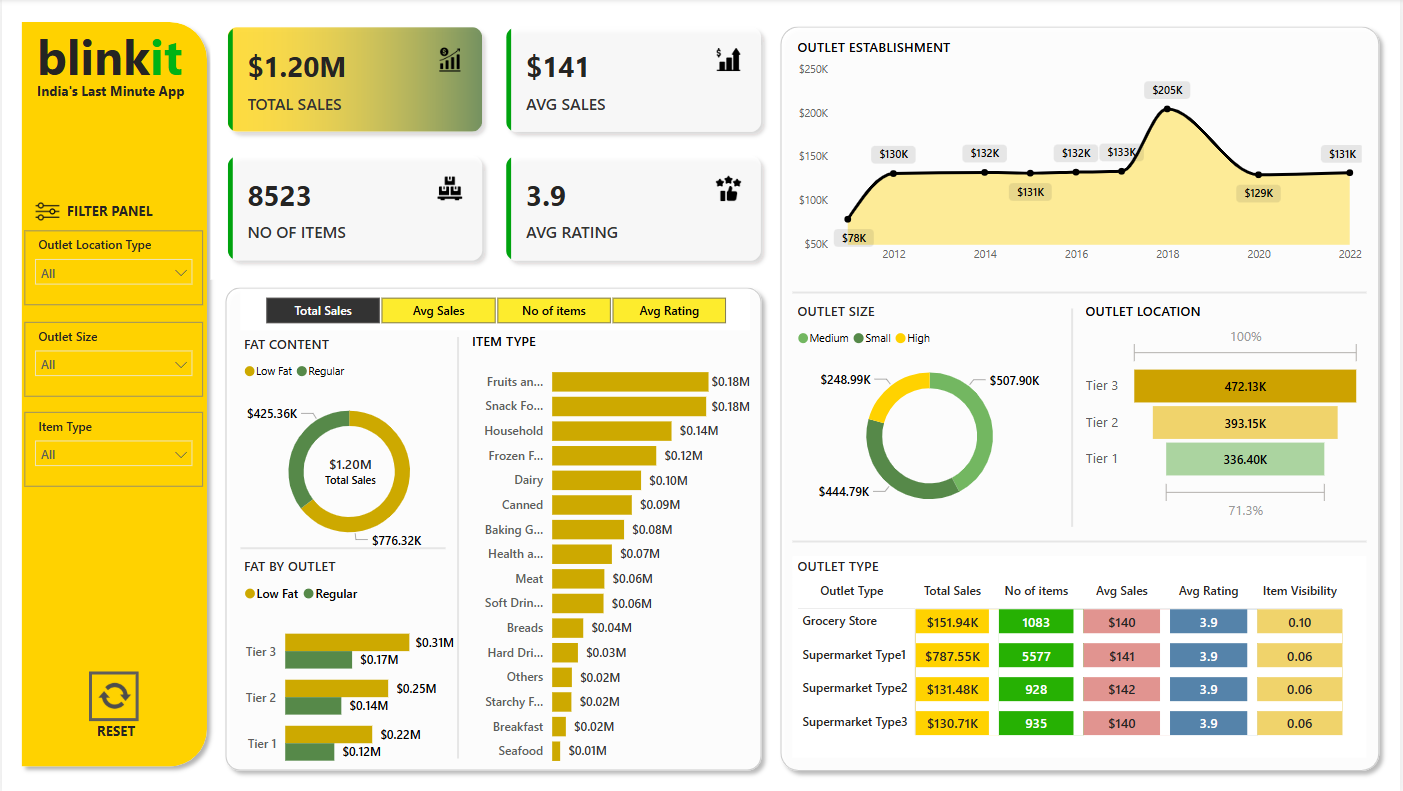

This screenshot's page, from the dashboard's own definition file:
{"tool":"powerbi","page":{"name":"Page 1","canvas":[1400,800],"ordinal":0},"visuals":[{"type":"shape","box":[9.9,14.9,203.7,763.5],"z":0},{"type":"textbox","box":[29.8,19.9,164,79.5],"z":1000},{"type":"textbox","box":[29.8,77.8,173.9,41.4],"z":2000},{"type":"cardVisual","fields":{"Data":["BlinkIT Grocery Data.Total Sales","BlinkIT Grocery Data.Avg Sales","BlinkIT Grocery Data.No of items","BlinkIT Grocery Data.Avg Rating"]},"box":[208.7,11.6,569.7,270],"z":3000},{"type":"shape","box":[215.3,281.5,554.8,501.8],"z":4000},{"type":"donutChart","title":"FAT CONTENT","fields":{"Y":["BlinkIT Grocery Data.Total Sales"],"Category":["BlinkIT Grocery Data.Item Fat Content"]},"box":[236.8,336.2,220.3,230.2],"z":5000},{"type":"slicer","fields":{"Values":["Metrics.Metrics"]},"box":[238.5,293.1,510.1,39.7],"z":6000},{"type":"cardVisual","fields":{"Data":["BlinkIT Grocery Data.Total Sales"]},"box":[303.1,440.5,91.1,67.9],"z":7000},{"type":"clusteredBarChart","title":"FAT BY OUTLET","fields":{"Y":["BlinkIT Grocery Data.Total Sales"],"Series":["BlinkIT Grocery Data.Item Fat Content"],"Category":["BlinkIT Grocery Data.Outlet Location Type"]},"box":[236.8,558.1,220.3,230.2],"z":8000},{"type":"shape","box":[238.5,538.3,205.4,26.5],"z":9000},{"type":"shape","box":[440.5,339.5,33.1,422.3],"z":10000},{"type":"barChart","title":"ITEM TYPE","fields":{"Y":["BlinkIT Grocery Data.Total Sales"],"Category":["BlinkIT Grocery Data.Item Type"]},"box":[465.4,332.9,288.2,445.5],"z":11000},{"type":"shape","box":[770.1,19.9,617.7,763.5],"z":12000},{"type":"lineChart","title":"OUTLET ESTABLISHMENT","fields":{"Category":["BlinkIT Grocery Data.Outlet Establishment Year"],"Y":["BlinkIT Grocery Data.Total Sales"]},"box":[791.6,39.7,574.7,235.2],"z":13000},{"type":"shape","box":[791.6,281.5,574.7,28.2],"z":14000},{"type":"donutChart","title":"OUTLET SIZE","fields":{"Y":["BlinkIT Grocery Data.Total Sales"],"Category":["BlinkIT Grocery Data.Outlet Size"]},"box":[791.6,303.1,274.9,225.2],"z":15000},{"type":"shape","box":[1064.9,311.4,13.2,218.6],"z":16000},{"type":"funnel","title":"OUTLET LOCATION","fields":{"Y":["Sum(BlinkIT Grocery Data.Sales)"],"Category":["BlinkIT Grocery Data.Outlet Location Type"]},"box":[1079.8,303.1,286.5,225.2],"z":17000},{"type":"shape","box":[791.6,530,574.7,28.2],"z":18000},{"type":"pivotTable","title":"OUTLET TYPE","fields":{"Rows":["BlinkIT Grocery Data.Outlet Type"],"Values":["BlinkIT Grocery Data.Total Sales","BlinkIT Grocery Data.No of items","BlinkIT Grocery Data.Avg Sales","BlinkIT Grocery Data.Avg Rating","Avg(BlinkIT Grocery Data.Item Visibility)"]},"box":[791.6,558.1,574.7,202.1],"z":19000},{"type":"slicer","fields":{"Values":["BlinkIT Grocery Data.Outlet Location Type"]},"box":[23.2,233.5,178.9,74.5],"z":20000},{"type":"slicer","fields":{"Values":["BlinkIT Grocery Data.Outlet Size"]},"box":[23.2,324.6,178.9,74.5],"z":21000},{"type":"slicer","fields":{"Values":["BlinkIT Grocery Data.Item Type"]},"box":[23.2,414,178.9,74.5],"z":22000},{"type":"textbox","box":[59.6,198.7,115.9,31.5],"z":23000},{"type":"image","box":[19.9,187.1,51.3,51.3],"z":23001},{"type":"image","box":[87.8,672.4,49.7,51.3],"z":23002},{"type":"actionButton","box":[87.8,674.1,49.7,49.7],"z":23003},{"type":"textbox","box":[89.4,718.8,66.2,31.5],"z":23004}]}

Visuals, with their boxes in screenshot pixels (x1, y1, x2, y2), scaled from the page's 1400x800 canvas onto the 1403x791 screenshot:
shape: <region>10, 15, 214, 770</region>
textbox: <region>30, 20, 194, 98</region>
textbox: <region>30, 77, 204, 118</region>
cardVisual - BlinkIT Grocery Data.Total Sales x BlinkIT Grocery Data.Avg Sales: <region>209, 11, 780, 278</region>
shape: <region>216, 278, 772, 774</region>
"FAT CONTENT" donutChart: <region>237, 332, 458, 560</region>
slicer - Metrics.Metrics: <region>239, 290, 750, 329</region>
cardVisual - BlinkIT Grocery Data.Total Sales: <region>304, 436, 395, 503</region>
"FAT BY OUTLET" clusteredBarChart: <region>237, 552, 458, 779</region>
shape: <region>239, 532, 445, 558</region>
shape: <region>441, 336, 475, 753</region>
"ITEM TYPE" barChart: <region>466, 329, 755, 770</region>
shape: <region>772, 20, 1391, 775</region>
"OUTLET ESTABLISHMENT" lineChart: <region>793, 39, 1369, 272</region>
shape: <region>793, 278, 1369, 306</region>
"OUTLET SIZE" donutChart: <region>793, 300, 1069, 522</region>
shape: <region>1067, 308, 1080, 524</region>
"OUTLET LOCATION" funnel: <region>1082, 300, 1369, 522</region>
shape: <region>793, 524, 1369, 552</region>
"OUTLET TYPE" pivotTable: <region>793, 552, 1369, 752</region>
slicer - BlinkIT Grocery Data.Outlet Location Type: <region>23, 231, 203, 305</region>
slicer - BlinkIT Grocery Data.Outlet Size: <region>23, 321, 203, 395</region>
slicer - BlinkIT Grocery Data.Item Type: <region>23, 409, 203, 483</region>
textbox: <region>60, 196, 176, 228</region>
image: <region>20, 185, 71, 236</region>
image: <region>88, 665, 138, 716</region>
actionButton: <region>88, 667, 138, 716</region>
textbox: <region>90, 711, 156, 742</region>
